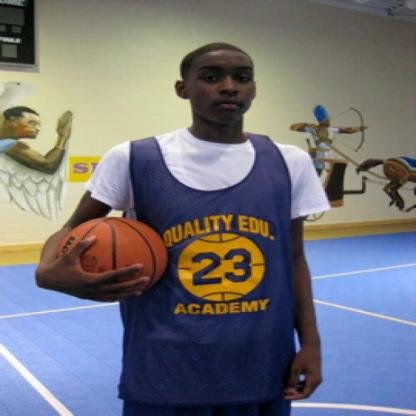basketball: (54, 217, 166, 298)
